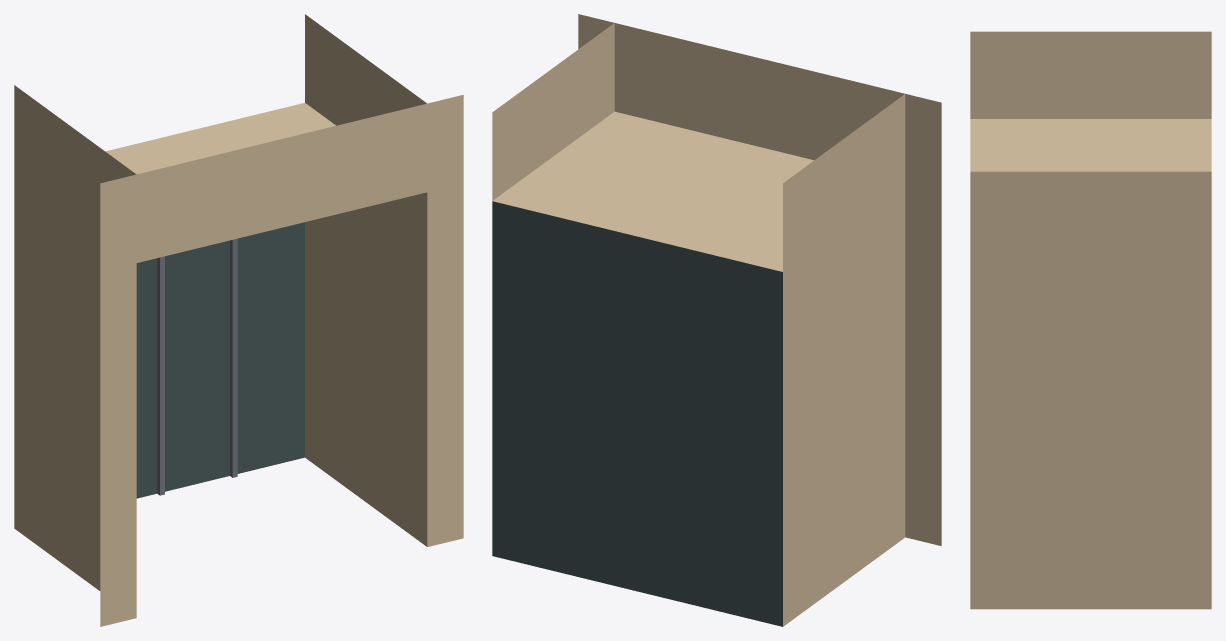
The model's file is base-w1_close.fbx.
3 renders of one model, left to right at view 1: azimuth 30°, elevation 25°; view 2: azimuth 150°, elevation 25°; view 3: azimuth 270°, elevation 25°, orthographic.
Visible parts, largest first — view 1: a2012/400/base-w1_close; view 2: a2012/400/base-w1_close; view 3: a2012/400/base-w1_close.
Boxes of the visible parts, left/top/right/bottom form: a2012/400/base-w1_close: left=14, top=14, right=463, bottom=626; a2012/400/base-w1_close: left=492, top=14, right=941, bottom=626; a2012/400/base-w1_close: left=970, top=31, right=1211, bottom=609.
Size of the model in its own units: 3 by 3.5 by 1.75.
